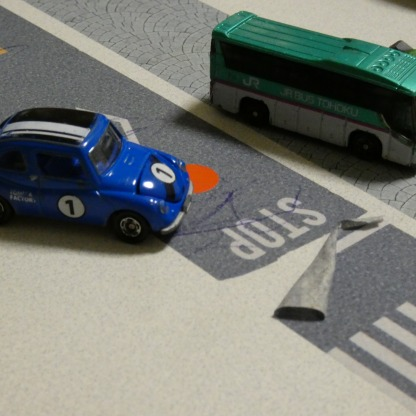car: (201, 8, 416, 171), (0, 107, 191, 255)
